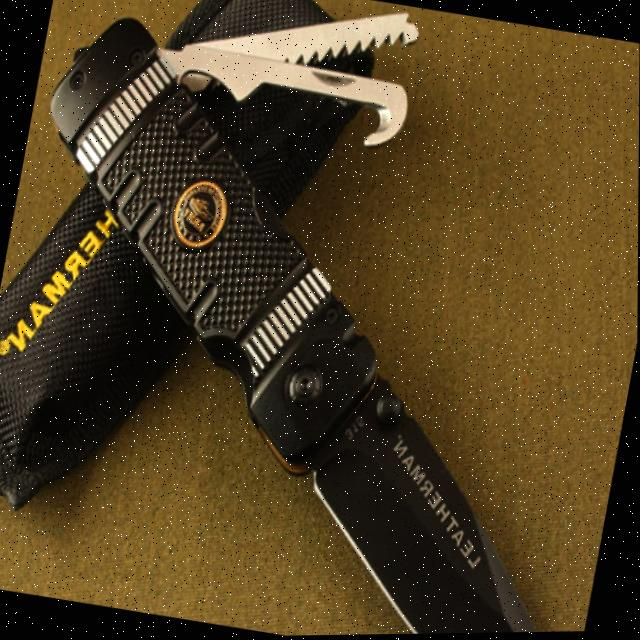knife: (0, 12, 640, 640)
